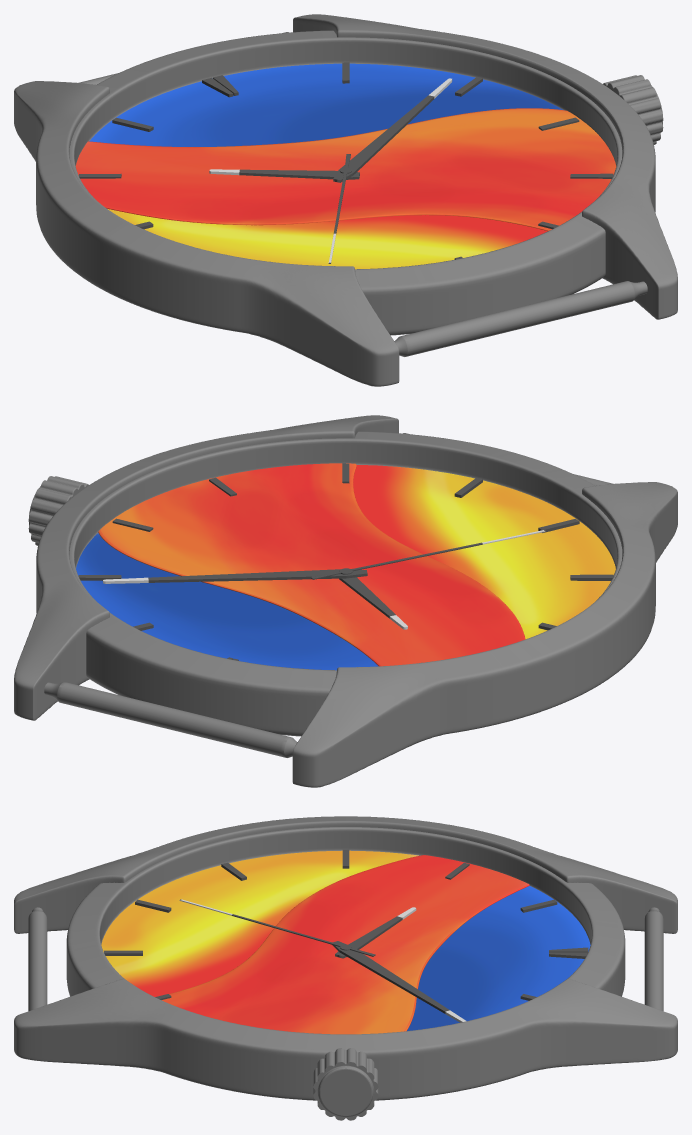
File: compressedFirstWatch9.gltf
The picture shows the model from 3 angles, top to bottom: view 1: azimuth 30°, elevation 25°; view 2: azimuth 150°, elevation 25°; view 3: azimuth 270°, elevation 25°; orthographic projection. The views are drawn at different scales.
Parts seen in each view (by area): view 1: Case 1, Dial Wave, Dial 1, Case 2, Markings, Wheel, Big Hand, Small Hand; view 2: Case 1, Dial Wave, Dial 1, Case 2, Big Hand, Markings, Wheel, Small Hand, Second-Hand; view 3: Case 1, Dial 1, Dial Wave, Case 2, Wheel, Markings, Big Hand, Small Hand, Second-Hand.
Part boxes in pixels (bbox=[...]): Case 1: bbox=[14, 14, 677, 386]; Dial Wave: bbox=[75, 108, 616, 230]; Dial 1: bbox=[89, 63, 563, 269]; Case 2: bbox=[69, 30, 622, 335]; Markings: bbox=[78, 62, 613, 259]; Wheel: bbox=[603, 75, 663, 144]; Big Hand: bbox=[333, 78, 452, 182]; Small Hand: bbox=[209, 169, 359, 179]; Case 1: bbox=[14, 415, 677, 787]; Dial Wave: bbox=[98, 463, 525, 666]; Dial 1: bbox=[76, 465, 615, 670]; Case 2: bbox=[69, 431, 622, 736]; Big Hand: bbox=[103, 569, 367, 583]; Markings: bbox=[78, 463, 613, 660]; Wheel: bbox=[28, 476, 88, 545]; Small Hand: bbox=[339, 577, 407, 629]; Second-Hand: bbox=[311, 530, 545, 579]; Case 1: bbox=[14, 816, 677, 1100]; Dial 1: bbox=[101, 850, 590, 1030]; Dial Wave: bbox=[162, 855, 529, 1034]; Case 2: bbox=[66, 827, 625, 996]; Wheel: bbox=[313, 1048, 378, 1120]; Markings: bbox=[104, 849, 588, 1000]; Big Hand: bbox=[332, 941, 466, 1022]; Small Hand: bbox=[335, 907, 416, 958]; Second-Hand: bbox=[179, 899, 375, 956].
Size of the model in its own units: 0.108 by 0.0128 by 0.1201.
Materials: 5 (2 with a texture image).
